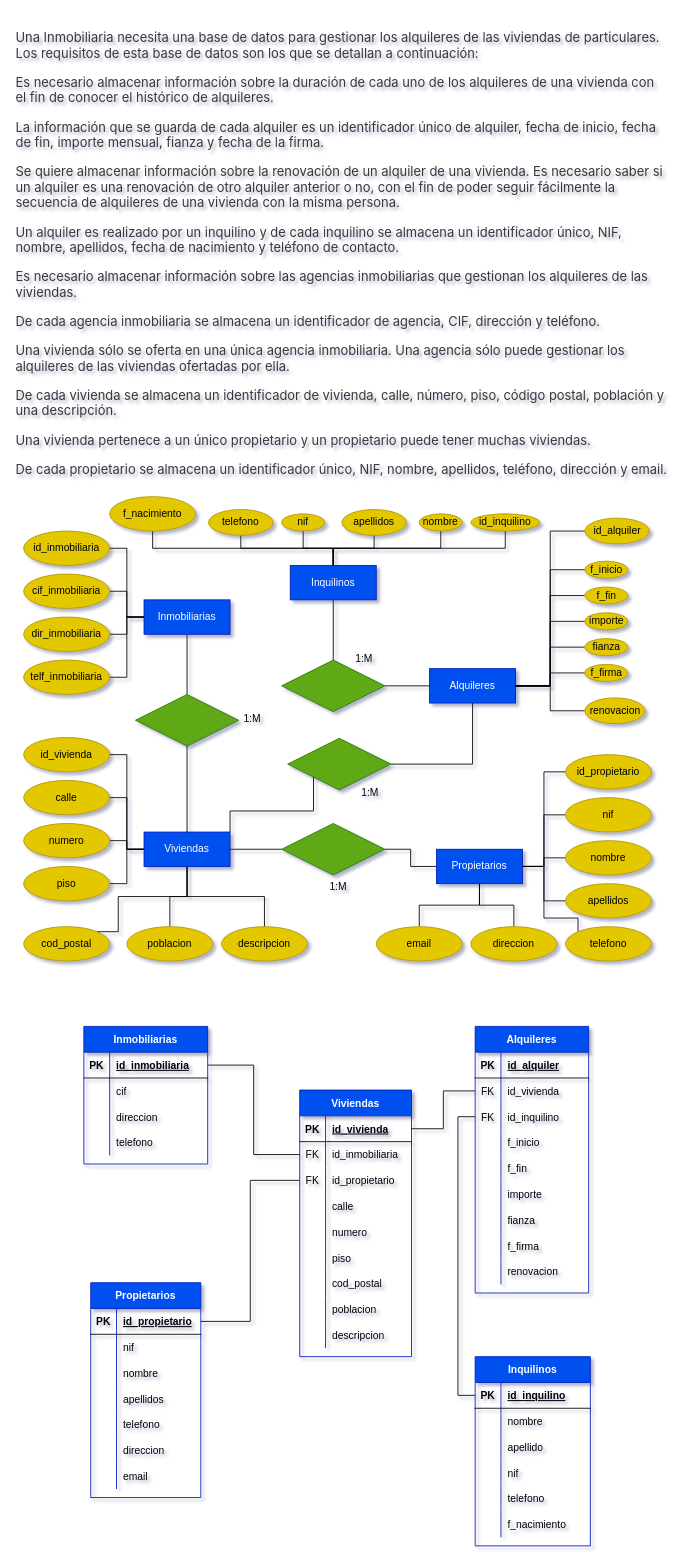
The diagram is 688 pixels wide and 1566 high, and some of its shapes have lost their labels. The box of each missing label's shape, as (x1, y1, x2, y2) in pixels:
contratan: (281, 659, 385, 712)
gestiona: (135, 694, 239, 746)
posee: (281, 823, 385, 875)
tiene: (287, 737, 391, 790)
